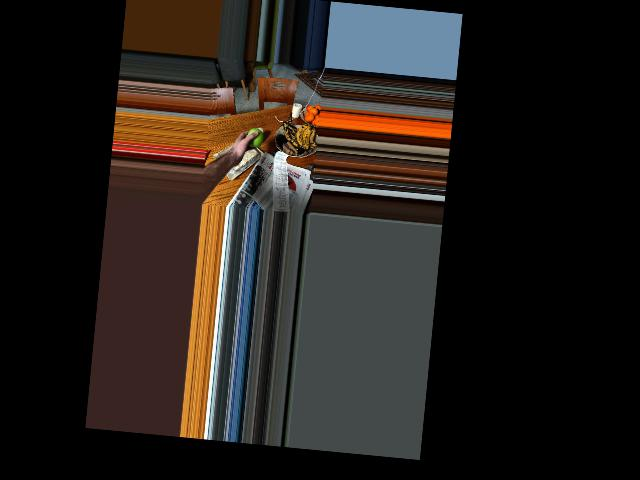apple: (244, 127, 264, 149)
